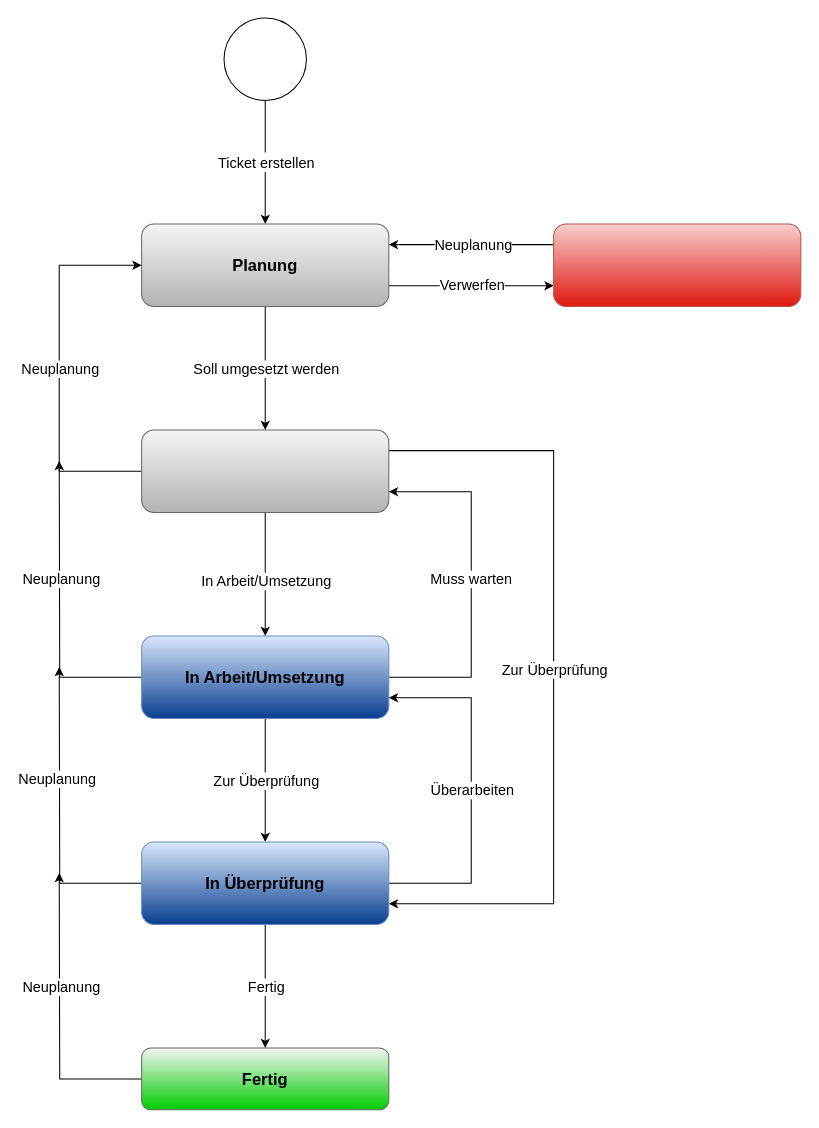
Image size: 819x1128. Some labels were removed from this diagram. The shapes that lost their labels are listed below. From the top down, each one's centre as x and y in pixels, then its label:
point 677,264: Verworfen
point 265,470: Zur Umsetzung Ausgewählt
